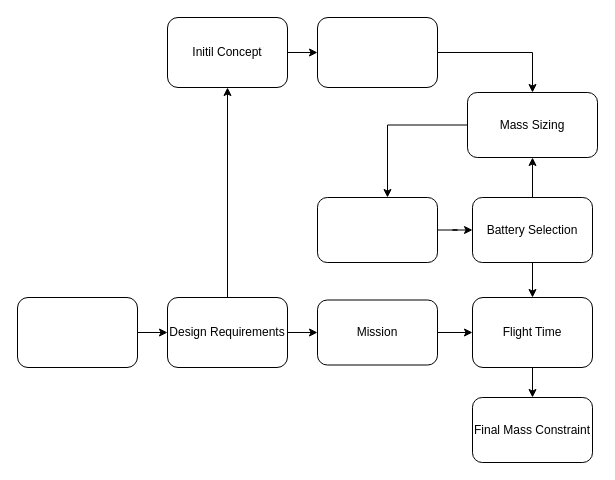
Some shapes in this 615 by 480 pixel diagram are drawn without their labels. Here are the shapes that lost their labels. From the top down, the centre of each, then its label:
(x=377, y=52): Market Survey
(x=377, y=229): Motor and Esc Selection
(x=77, y=332): Purpose of Drone
